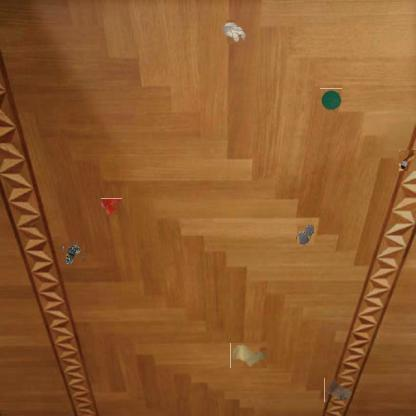dirty: (230, 342, 267, 368), (324, 378, 353, 402), (222, 20, 250, 44), (320, 88, 342, 111), (62, 242, 83, 264), (398, 149, 416, 171)
liquid: (296, 223, 314, 245), (100, 198, 122, 215)
